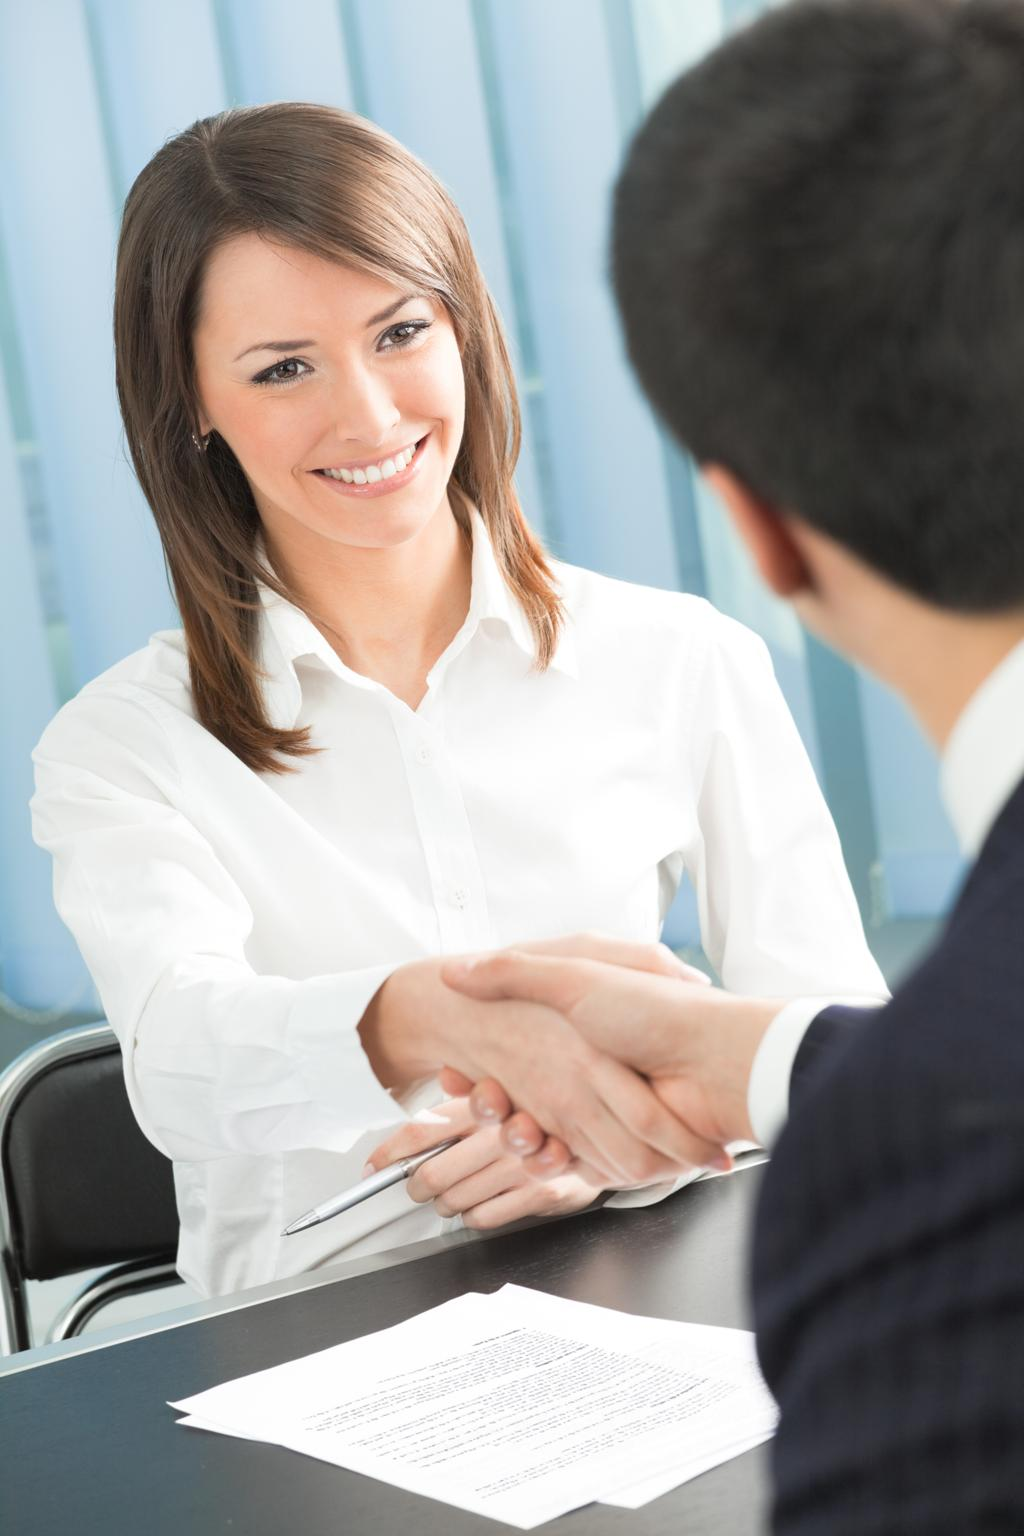face: (213, 225, 468, 546)
